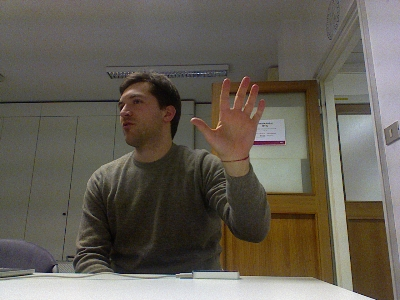布: (187, 74, 266, 158)
